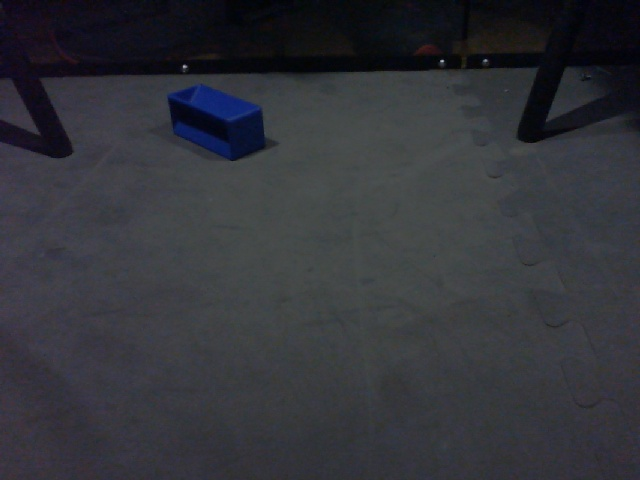BlueSample: (166, 81, 269, 161)
